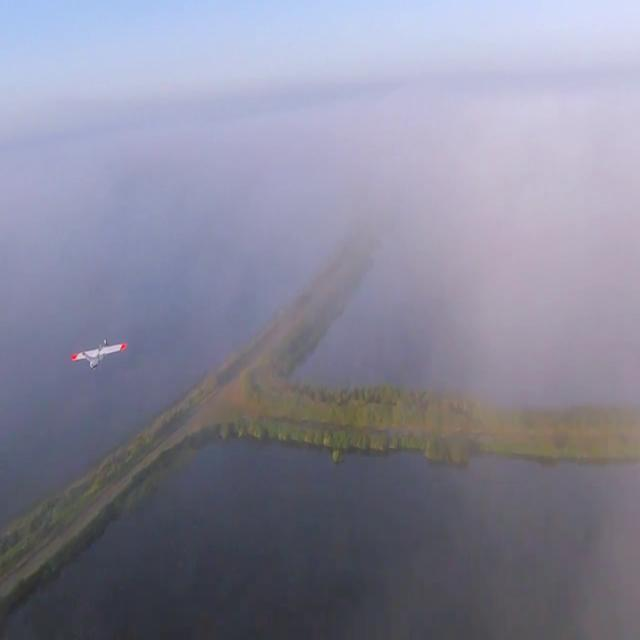iha: (7, 341, 62, 373)
